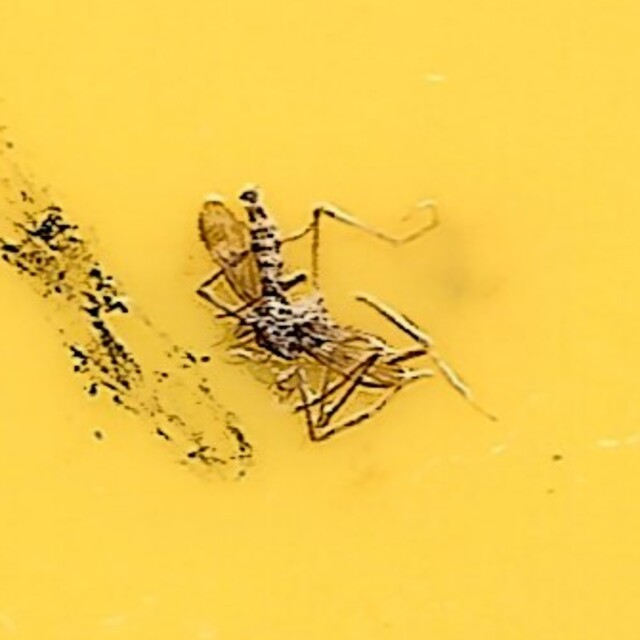Nematocera: (191, 183, 449, 457)
